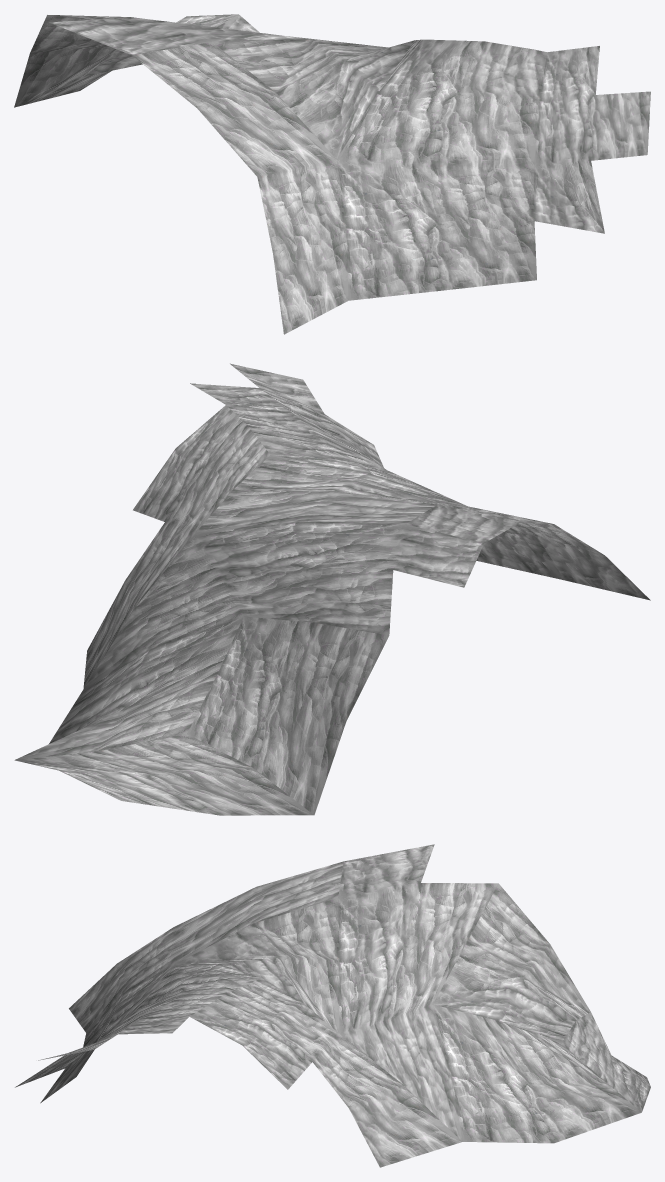
The model's file is SWORDLIGHT20_PS-AREA03_50.fbx.
The picture shows the model from 3 angles, top to bottom: view 1: azimuth 30°, elevation 25°; view 2: azimuth 150°, elevation 25°; view 3: azimuth 270°, elevation 25°; orthographic projection. The views are drawn at different scales.
Visible parts, largest first — view 1: SWORDLIGHT20_PS-AREA03_50; view 2: SWORDLIGHT20_PS-AREA03_50; view 3: SWORDLIGHT20_PS-AREA03_50.
Part boxes in pixels (left/top/right/bottom): SWORDLIGHT20_PS-AREA03_50: left=14, top=14, right=650, bottom=334; SWORDLIGHT20_PS-AREA03_50: left=14, top=363, right=650, bottom=815; SWORDLIGHT20_PS-AREA03_50: left=15, top=844, right=650, bottom=1167.
Size of the model in its own units: 197341 by 81408 by 296708.
Materials: 1 (1 with a texture image).
